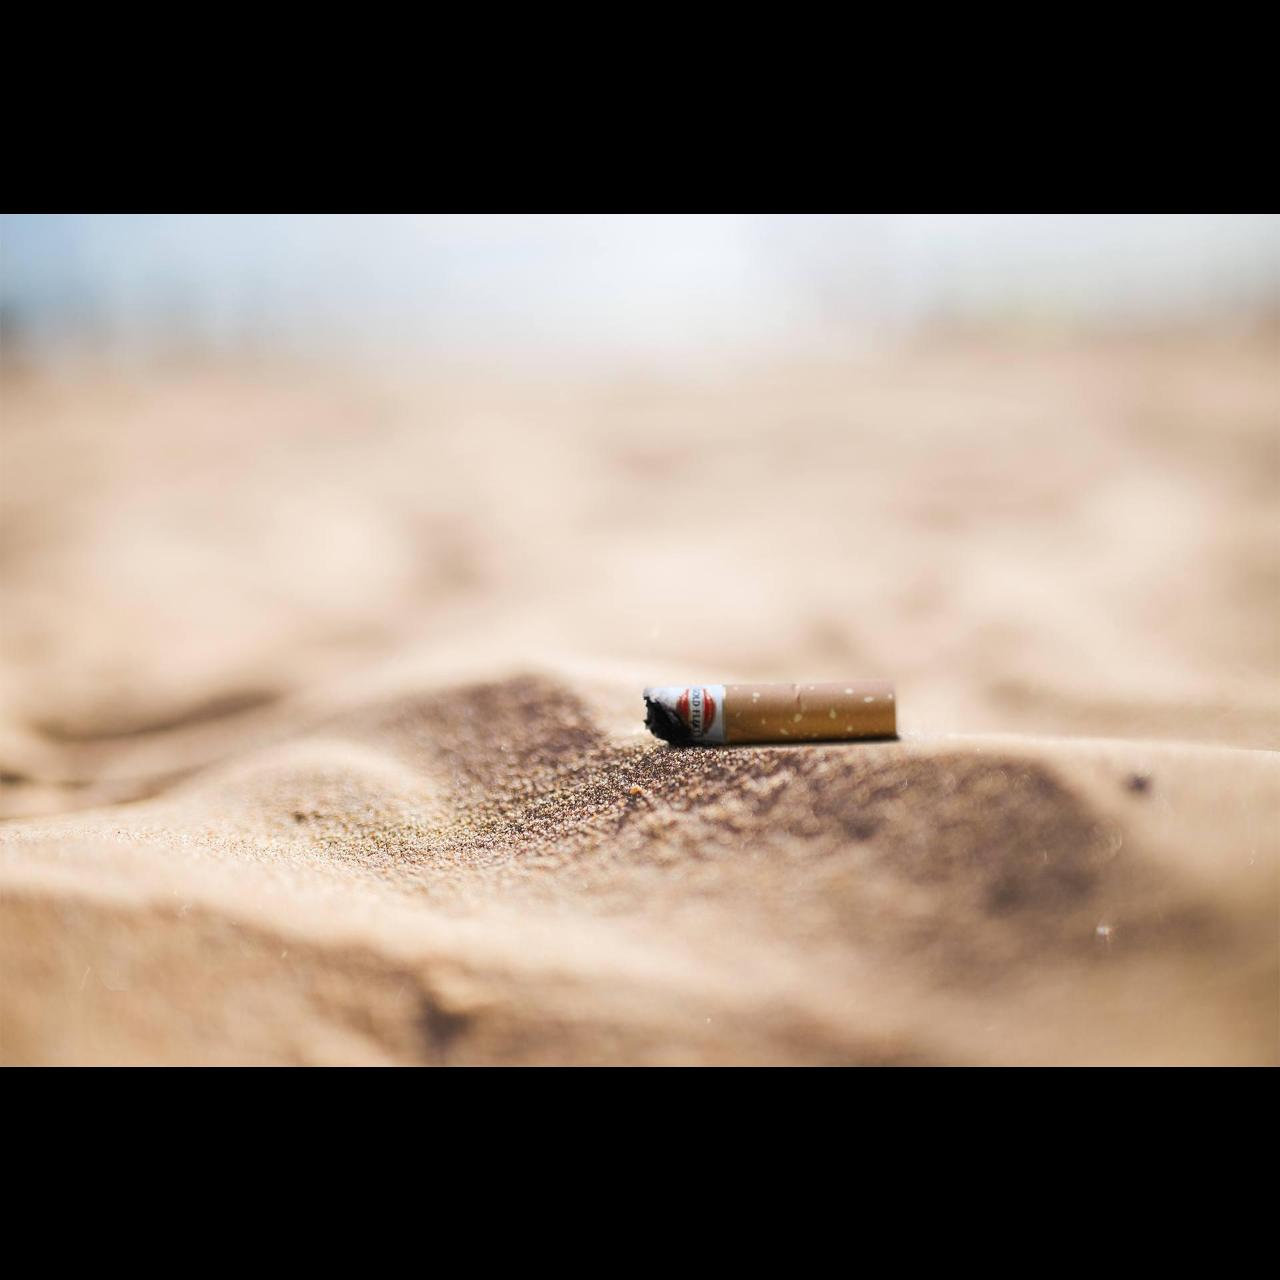cigarettes_butts: (644, 681, 898, 747)
